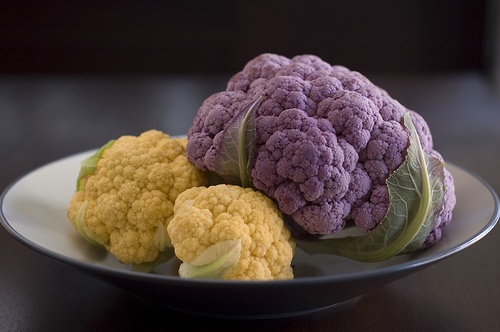cauliflower: (186, 52, 455, 262), (62, 121, 204, 271), (165, 180, 296, 280)
